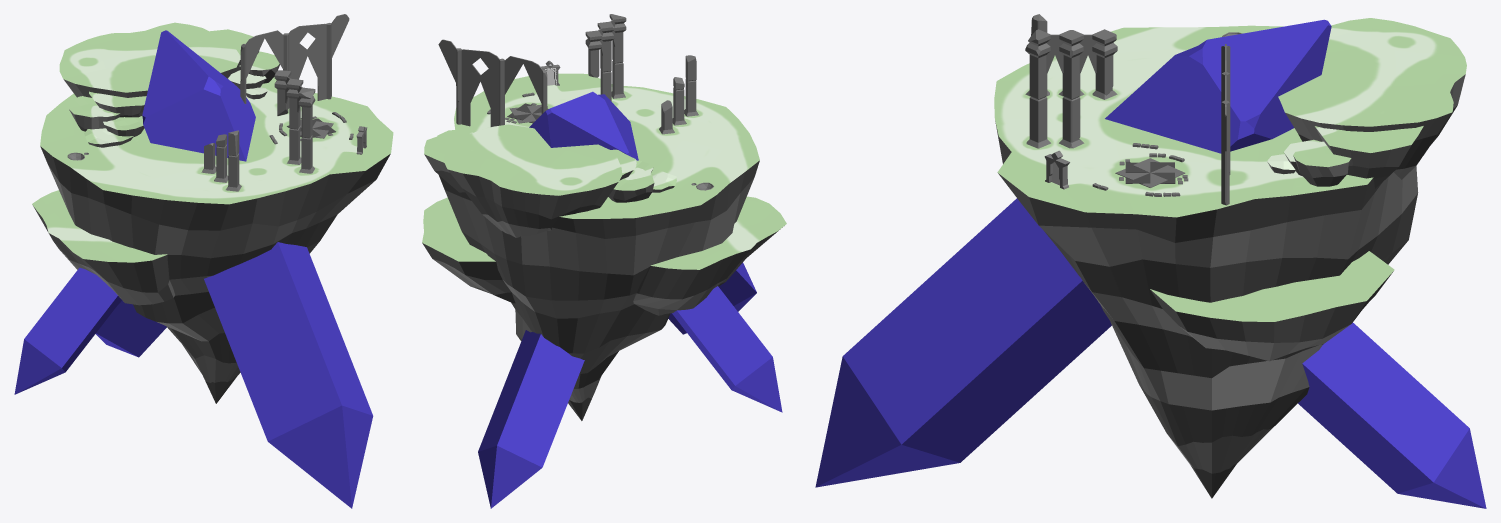
Rendered from island1.fbx.
The picture shows the model from 3 angles, left to right: view 1: azimuth 30°, elevation 25°; view 2: azimuth 150°, elevation 25°; view 3: azimuth 270°, elevation 25°; orthographic projection. The views are drawn at different scales.
Parts seen in each view (by area): view 1: crystals, grass_road, rocks, fachada_ilha1, coluna_ilha1_2, coluna_ilha1_1; view 2: rocks, grass_road, crystals, fachada_ilha1, coluna_ilha1_2, coluna_ilha1_1, flower; view 3: crystals, rocks, grass_road, coluna_ilha1_2, fachada_ilha1, flower.
Boxes of the visible parts, box(x1,y1,x2,y2) form: crystals: box(14, 30, 373, 508); grass_road: box(32, 22, 393, 262); rocks: box(33, 51, 390, 403); fachada_ilha1: box(240, 14, 349, 108); coluna_ilha1_2: box(274, 70, 315, 173); coluna_ilha1_1: box(201, 130, 241, 191); rocks: box(422, 154, 782, 420); grass_road: box(422, 73, 786, 269); crystals: box(478, 91, 782, 508); fachada_ilha1: box(438, 39, 547, 126); coluna_ilha1_2: box(585, 14, 626, 101); coluna_ilha1_1: box(659, 55, 698, 134); flower: box(507, 103, 548, 123); crystals: box(815, 19, 1486, 508); rocks: box(995, 74, 1465, 498); grass_road: box(994, 18, 1466, 321); coluna_ilha1_2: box(1025, 29, 1117, 148); fachada_ilha1: box(1221, 44, 1230, 205); flower: box(1115, 158, 1185, 187).
Size of what is drawn, in the model's own units: 6496 by 6674 by 8128.
